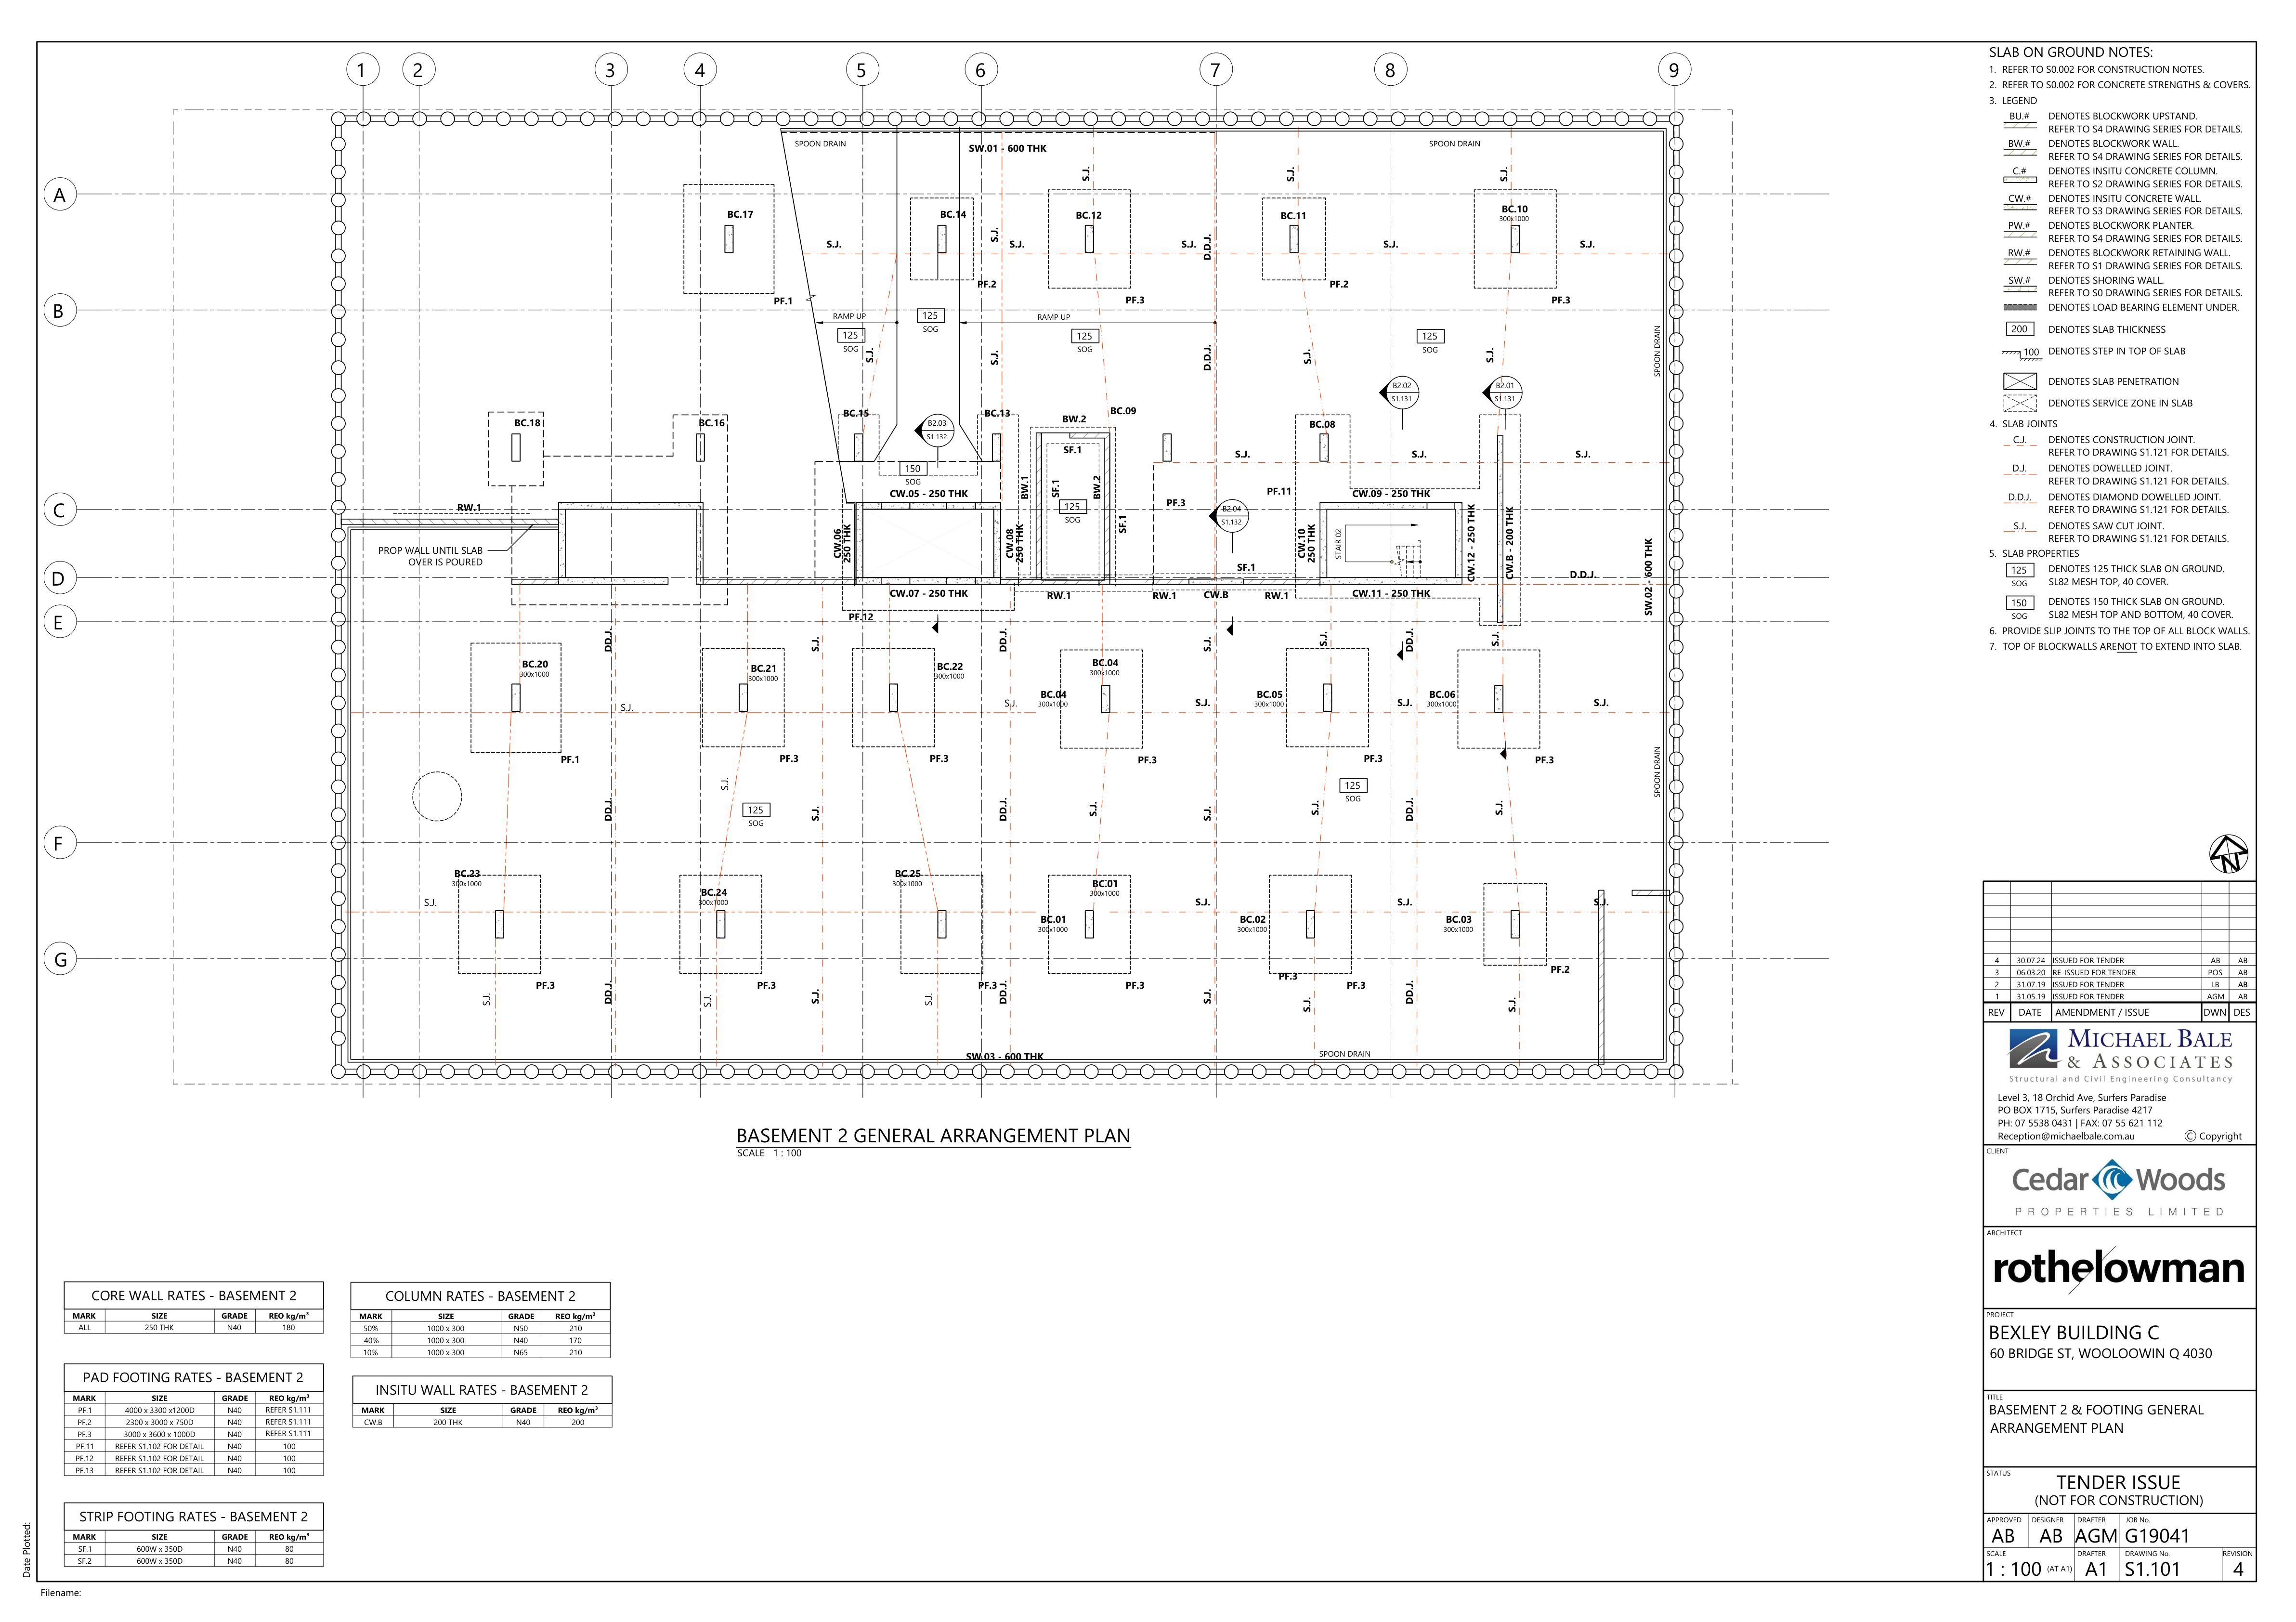PF.1: (556, 753, 586, 767), (774, 291, 797, 309)
PF.11: (1260, 481, 1295, 499)
PF.12: (844, 609, 881, 623)
PF.2: (1327, 274, 1353, 291), (974, 277, 1002, 293), (1550, 958, 1571, 978)
PF.3: (1116, 972, 1150, 992), (1531, 750, 1559, 772), (1357, 750, 1387, 769), (1130, 753, 1164, 769), (772, 748, 802, 765), (1164, 490, 1190, 509), (1125, 293, 1153, 309), (1550, 291, 1575, 309), (750, 978, 778, 992), (929, 751, 950, 769), (974, 978, 1001, 992), (1280, 967, 1301, 985), (1348, 978, 1369, 994), (535, 978, 558, 992)
SF.1: (1115, 513, 1136, 537), (1236, 560, 1262, 578), (1044, 474, 1062, 499), (1060, 444, 1087, 458)
